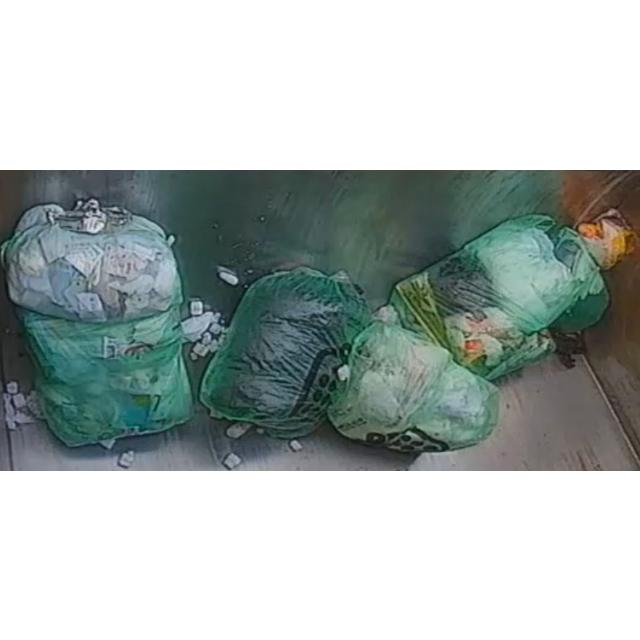general_trashbag: (1, 198, 192, 446), (391, 214, 604, 379), (200, 266, 371, 438), (328, 320, 499, 452)
